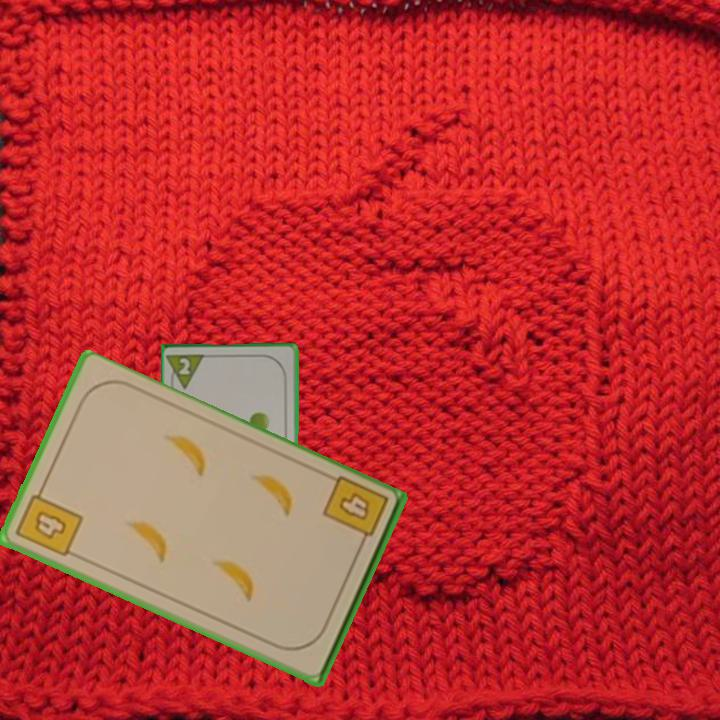2p: (166, 351, 210, 393)
4b: (12, 482, 86, 560), (319, 473, 392, 552)
